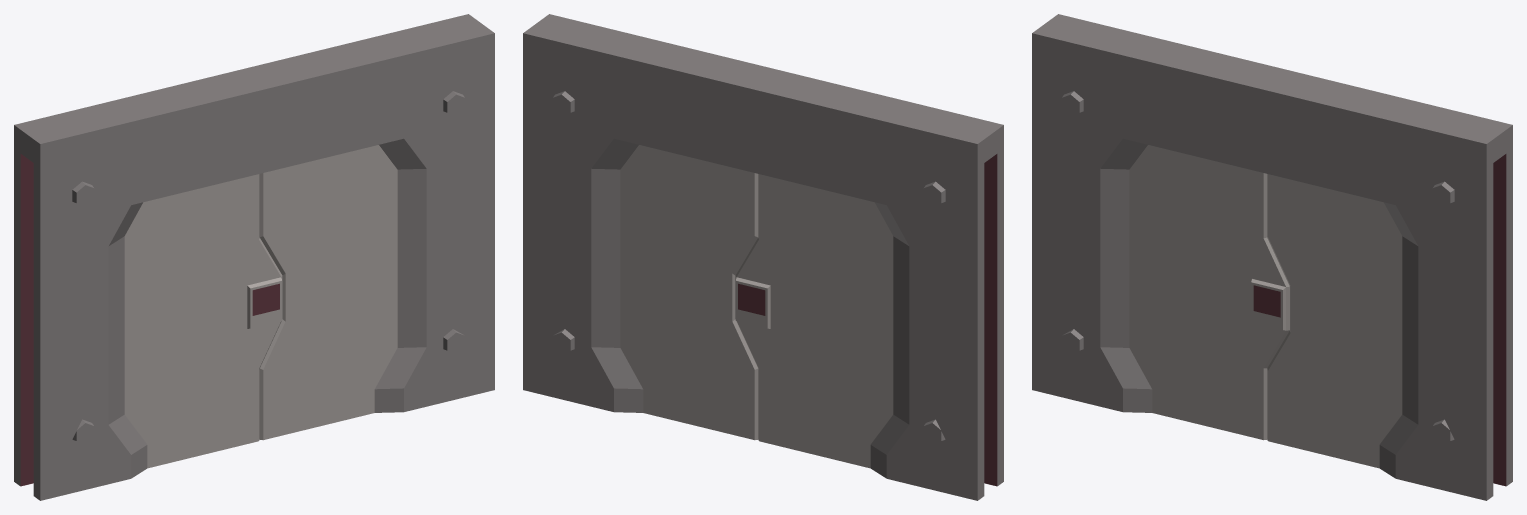
Rendered from scifi-door-metal.fbx.
3 views of the same model, side by side, from view 1: azimuth 30°, elevation 25°; view 2: azimuth 150°, elevation 25°; view 3: azimuth 330°, elevation 25° (orthographic).
Parts seen in each view (by area): view 1: scifi-door-frame-metal, scifi-door-metal_L, scifi-door-metal_R; view 2: scifi-door-frame-metal, scifi-door-metal_L, scifi-door-metal_R; view 3: scifi-door-frame-metal, scifi-door-metal_L, scifi-door-metal_R.
Boxes of the visible parts, left/top/right/bottom form: scifi-door-frame-metal: left=14, top=14, right=494, bottom=500; scifi-door-metal_L: left=124, top=174, right=282, bottom=468; scifi-door-metal_R: left=259, top=145, right=397, bottom=440; scifi-door-frame-metal: left=523, top=14, right=1003, bottom=500; scifi-door-metal_L: left=735, top=174, right=893, bottom=468; scifi-door-metal_R: left=620, top=145, right=758, bottom=440; scifi-door-frame-metal: left=1032, top=14, right=1512, bottom=500; scifi-door-metal_L: left=1129, top=145, right=1289, bottom=440; scifi-door-metal_R: left=1267, top=174, right=1402, bottom=468.
Size of the model in its own units: 4 by 3 by 0.5004.
